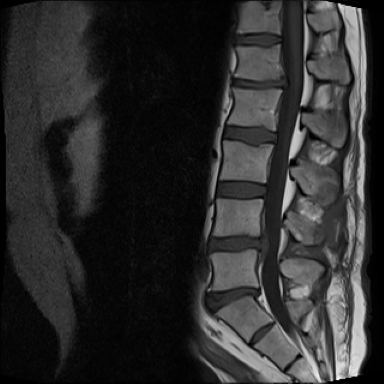Lumbar Disc Bulge (LDB): (201, 280, 269, 319), (202, 231, 279, 259), (227, 70, 296, 95)
Normal IVD: (221, 118, 284, 148), (213, 177, 273, 202), (231, 28, 286, 50)
Spinal Stenosis (SS): (254, 230, 277, 255), (247, 277, 267, 304), (277, 70, 294, 93)
Spondylolisthesis: (197, 267, 278, 331)
